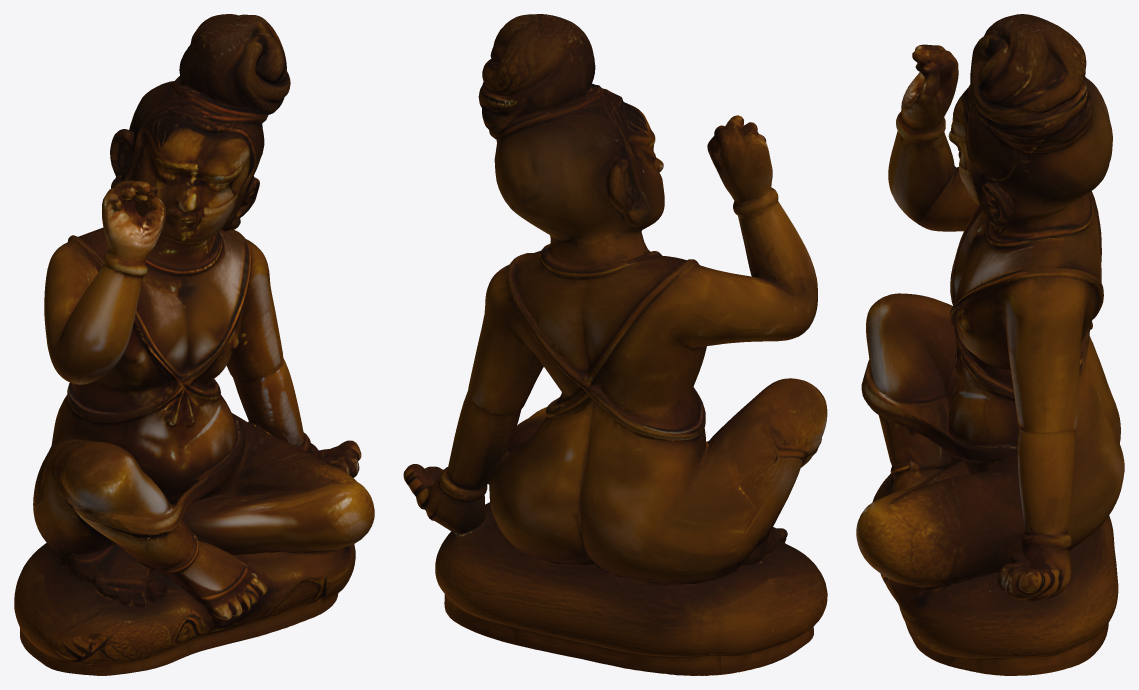
3 renders of one model, left to right at view 1: azimuth 30°, elevation 25°; view 2: azimuth 150°, elevation 25°; view 3: azimuth 270°, elevation 25°, orthographic. The views are drawn at different scales.
Parts seen in each view (by area): view 1: textured_mesh; view 2: textured_mesh; view 3: textured_mesh.
Boxes of the visible parts, x1,y1,x2,y2 form: textured_mesh: (14, 14, 374, 675); textured_mesh: (403, 14, 827, 675); textured_mesh: (856, 14, 1124, 675).
Size of the model in its own units: 1.33 by 1.99 by 0.7959.
1 material, 1 textured.
